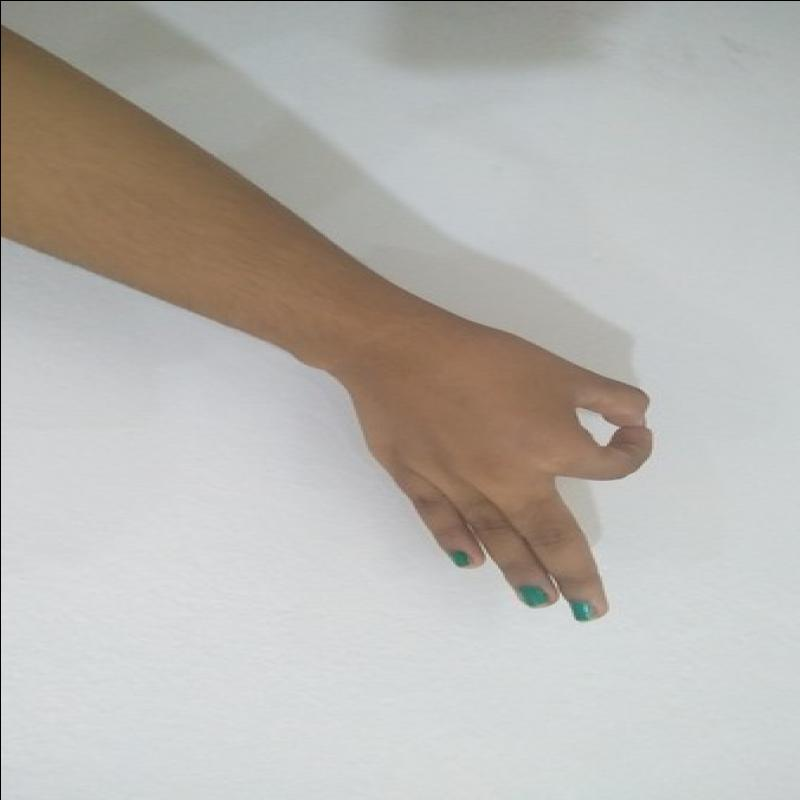Mudraakhyam: (342, 320, 660, 637)
